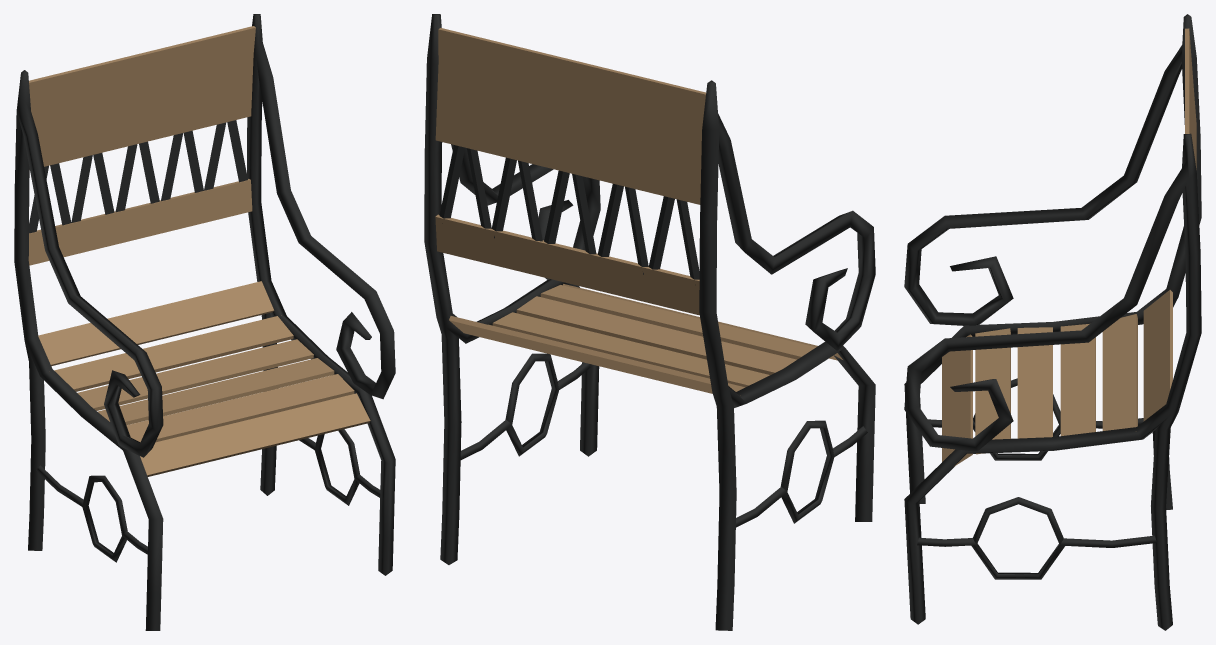
The model's file is Chair.fbx.
3 renders of one model, left to right at view 1: azimuth 30°, elevation 25°; view 2: azimuth 150°, elevation 25°; view 3: azimuth 270°, elevation 25°, orthographic. The views are drawn at different scales.
Parts seen in each view (by area): view 1: Chair; view 2: Chair; view 3: Chair.
Boxes of the visible parts, <box> form: Chair: <box>14,14,395,630</box>; Chair: <box>424,14,875,630</box>; Chair: <box>904,14,1201,630</box>.
Bounding box in the file's own units: 170 × 309 × 169.
